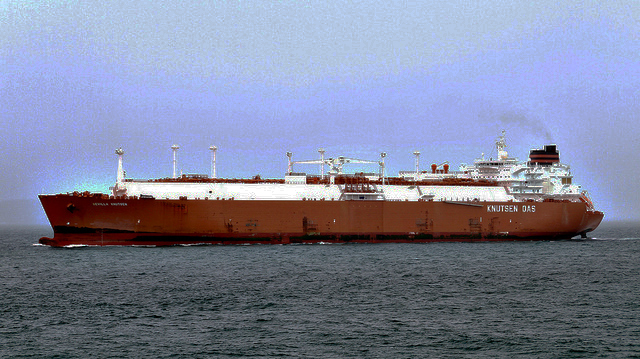LNG_ship: (38, 129, 614, 245)
